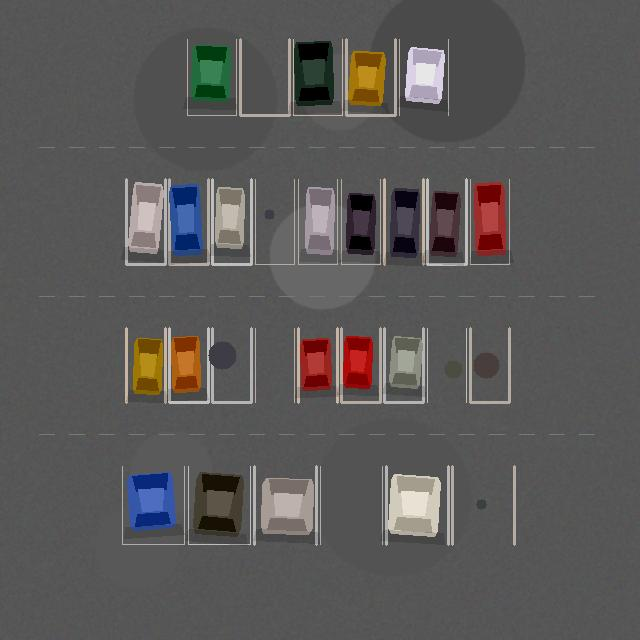space-empty: (320, 466, 382, 544), (452, 466, 514, 544), (240, 39, 289, 115), (255, 179, 294, 264), (212, 328, 251, 402), (255, 328, 294, 402), (427, 328, 466, 402), (470, 328, 509, 402)
space-occupied: (122, 466, 184, 544), (188, 466, 250, 544), (254, 466, 316, 544), (386, 466, 448, 544), (187, 39, 236, 115), (293, 39, 342, 115), (346, 39, 395, 115), (399, 39, 448, 115), (126, 179, 165, 264), (169, 179, 208, 264), (212, 179, 251, 264), (298, 179, 337, 264), (341, 179, 380, 264), (384, 179, 423, 264), (427, 179, 466, 264), (470, 179, 509, 264), (126, 328, 165, 402), (169, 328, 208, 402), (298, 328, 337, 402), (341, 328, 380, 402), (384, 328, 423, 402)
